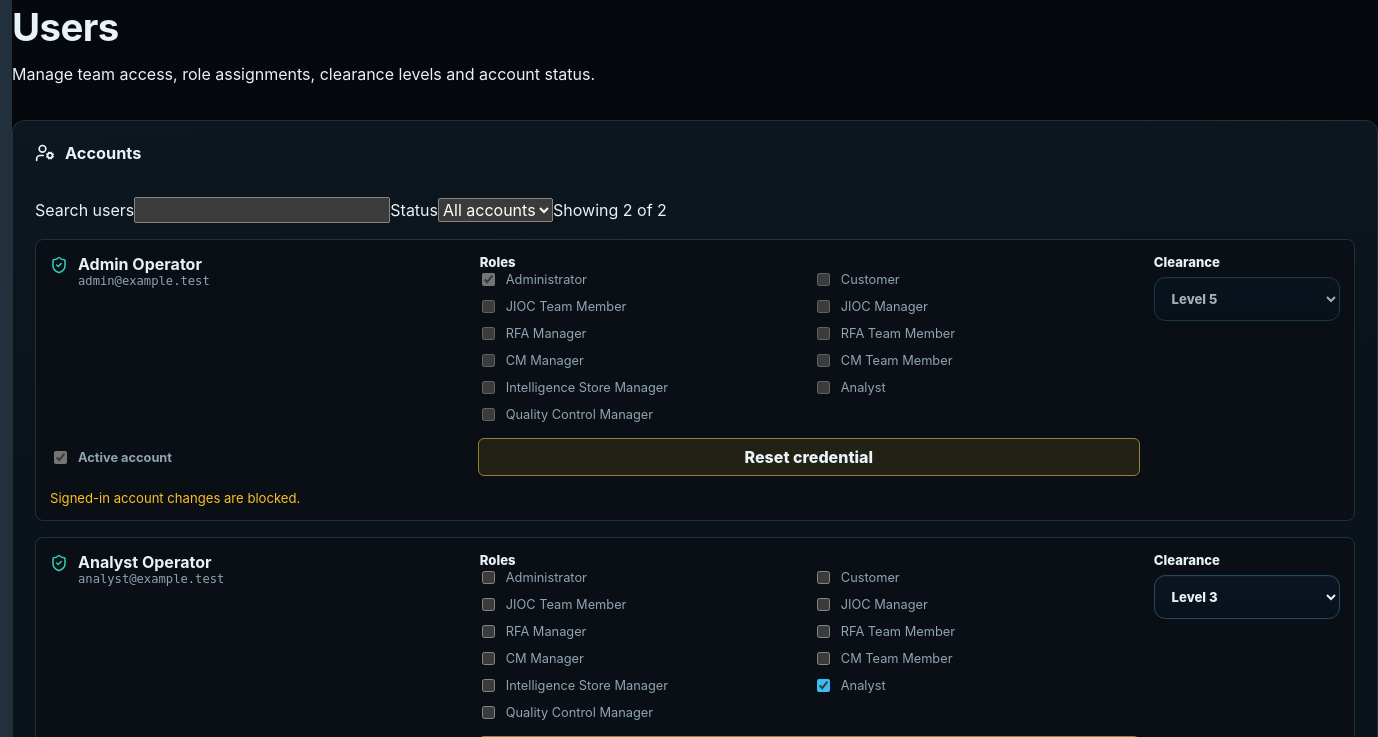
Test: renders users and applies role, clearance and status changes
Expected: the text "Analyst Operator" is shown, [78, 552, 212, 572]
Expected: the text "Signed-in account changes are blocked." is shown, [50, 490, 300, 506]
Click the checkbox labelled "Quality Control Manager" below "analyst@example.test": (488, 713) [482, 706, 495, 719]
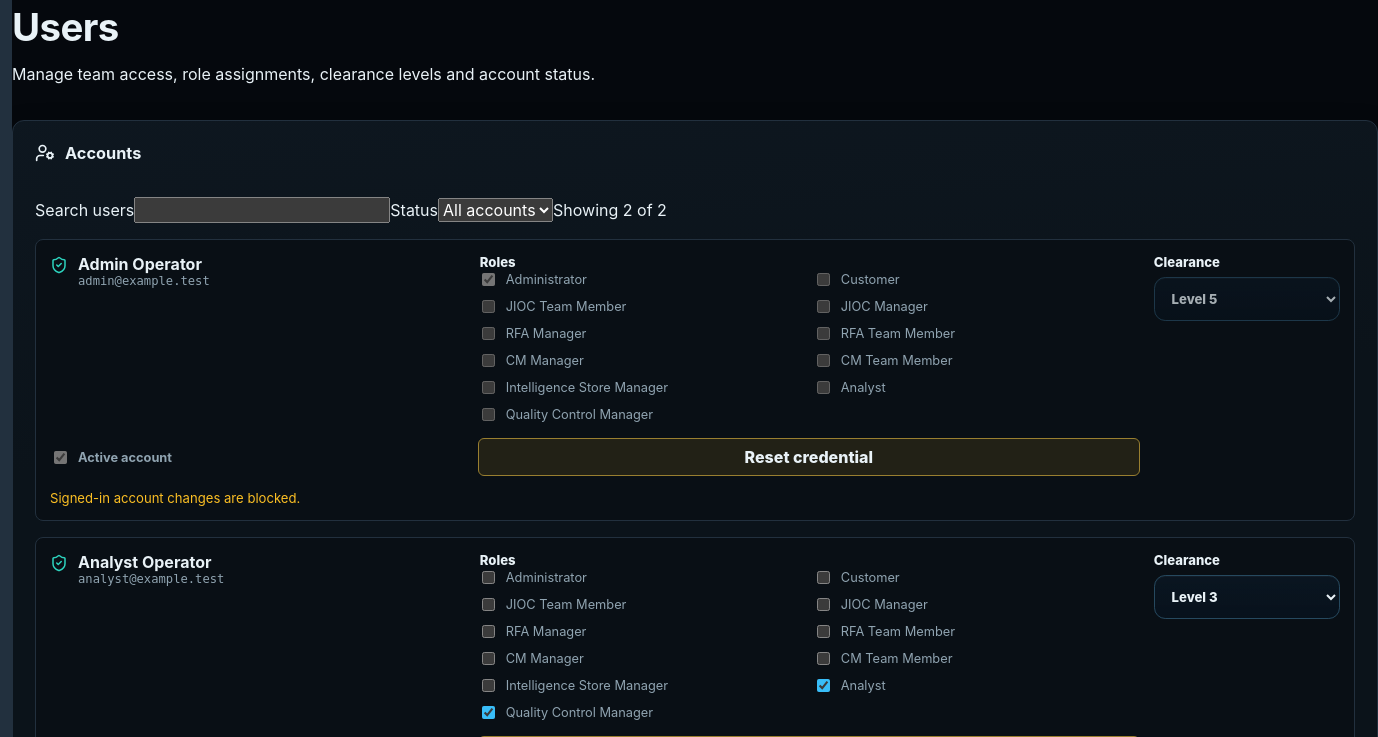
Select "Level 4" in the dropdown labelled "Clearance" in the row of "analyst@example.test": (1247, 597) [1154, 575, 1340, 619]
(page scrolled)
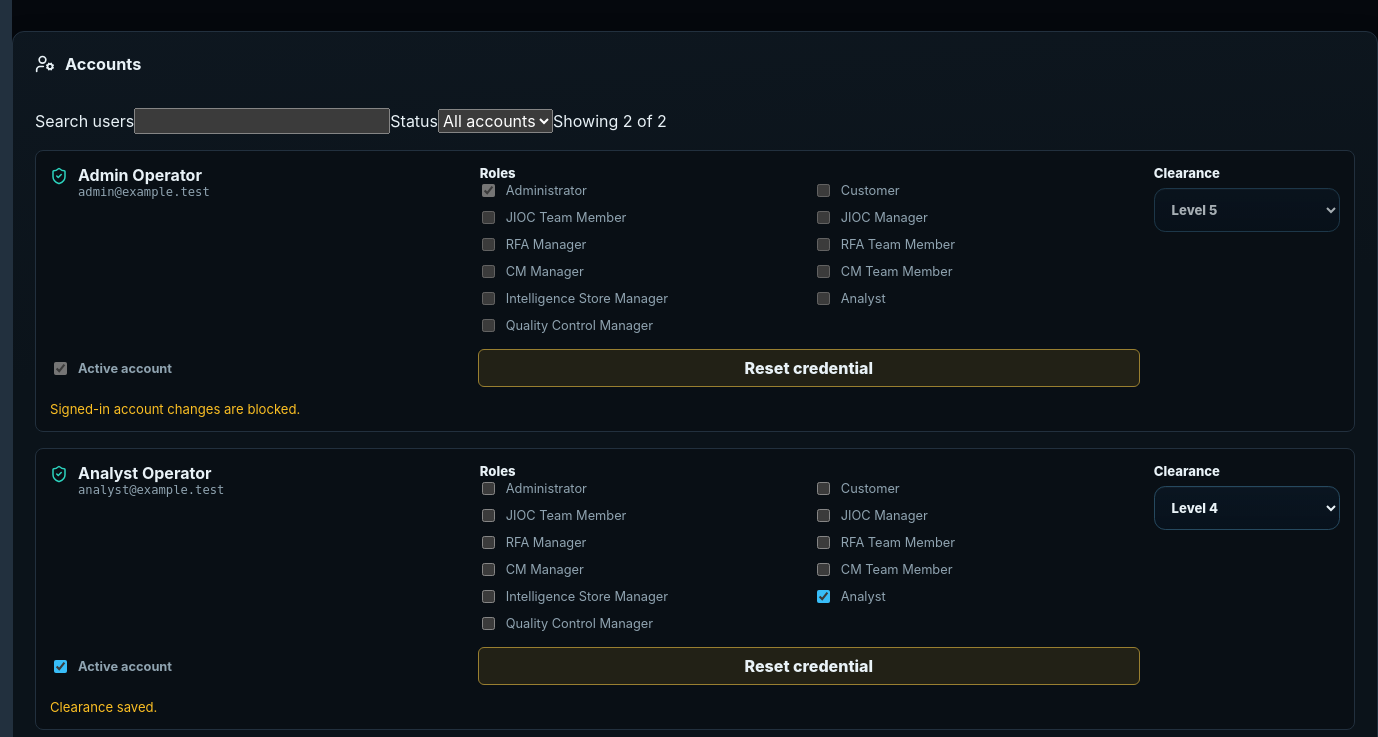
Click the checkbox labelled "Active account" below "analyst@example.test": (60, 666) [54, 660, 67, 673]
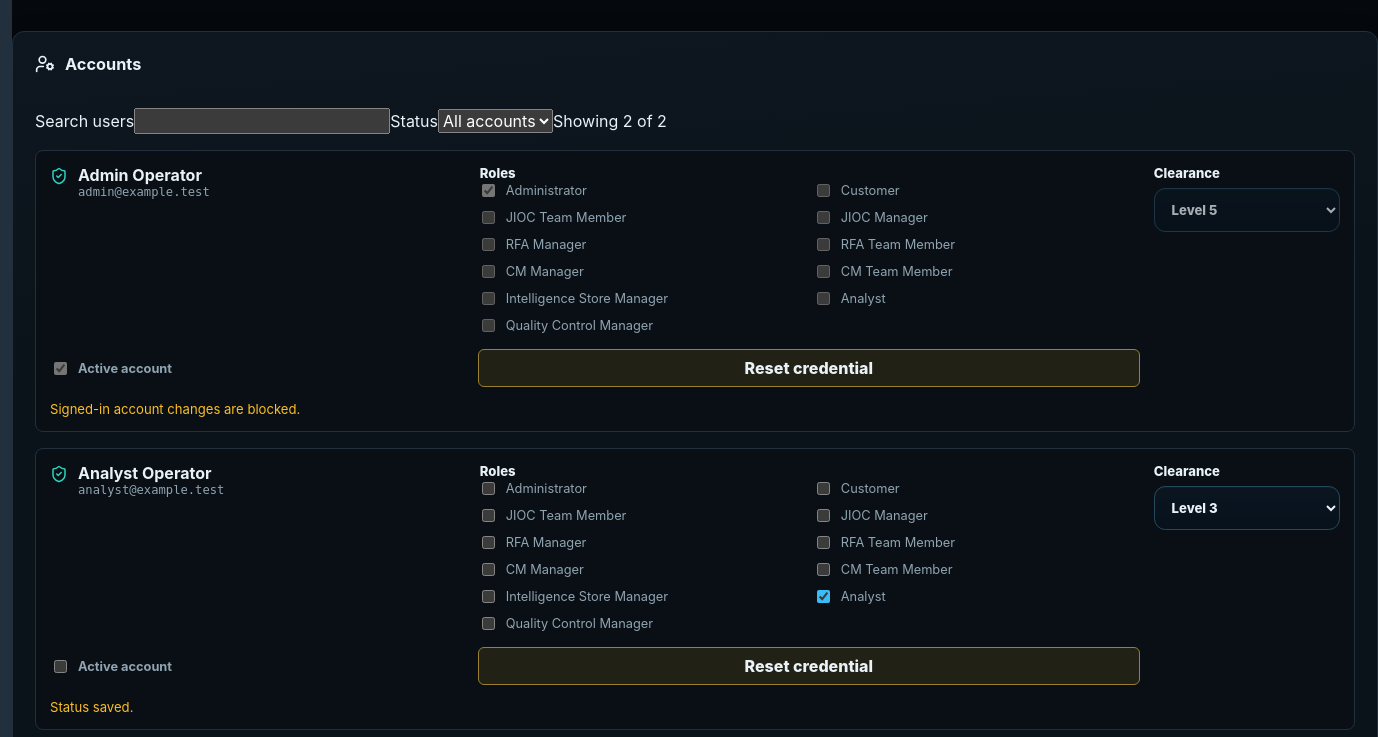
Click the button "Reset credential" below "analyst@example.test": (809, 666) [478, 647, 1140, 685]
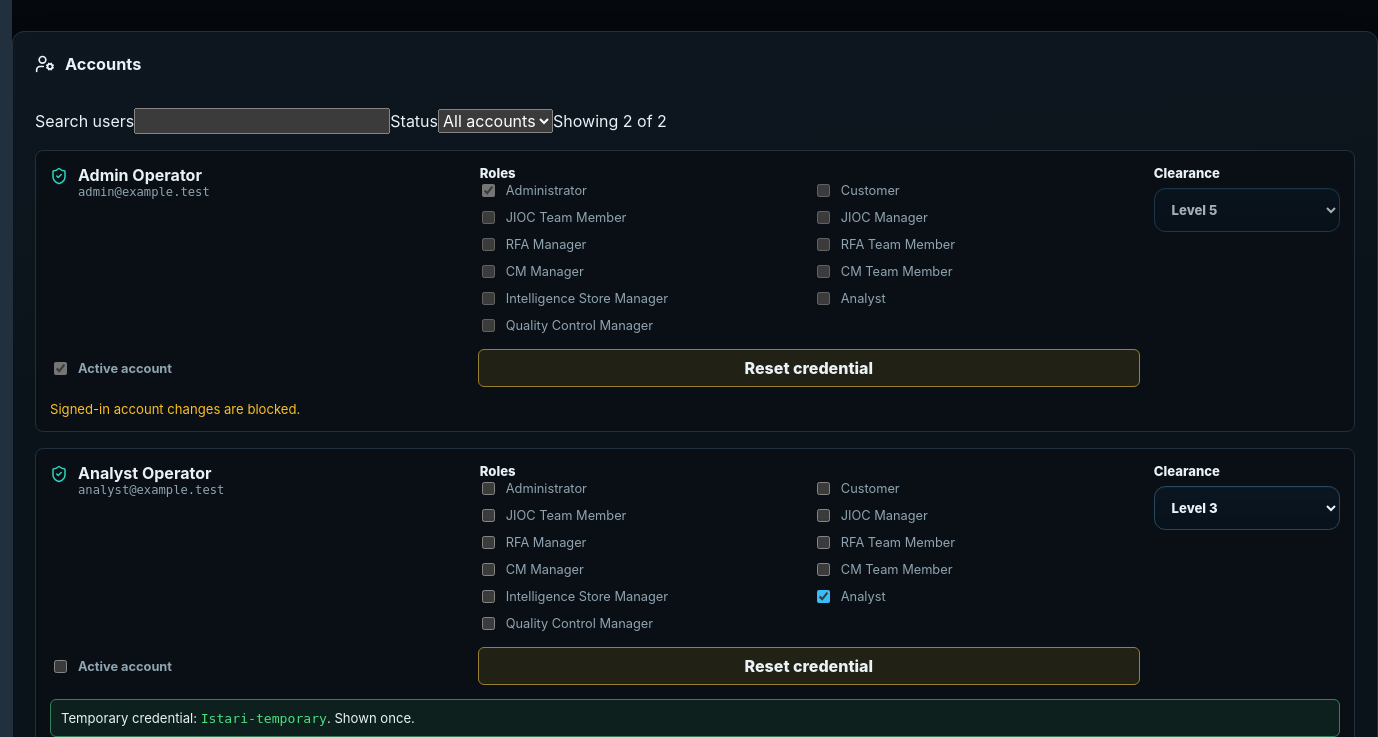
Expected: the text "Istari-temporary" is shown, [201, 711, 327, 726]
